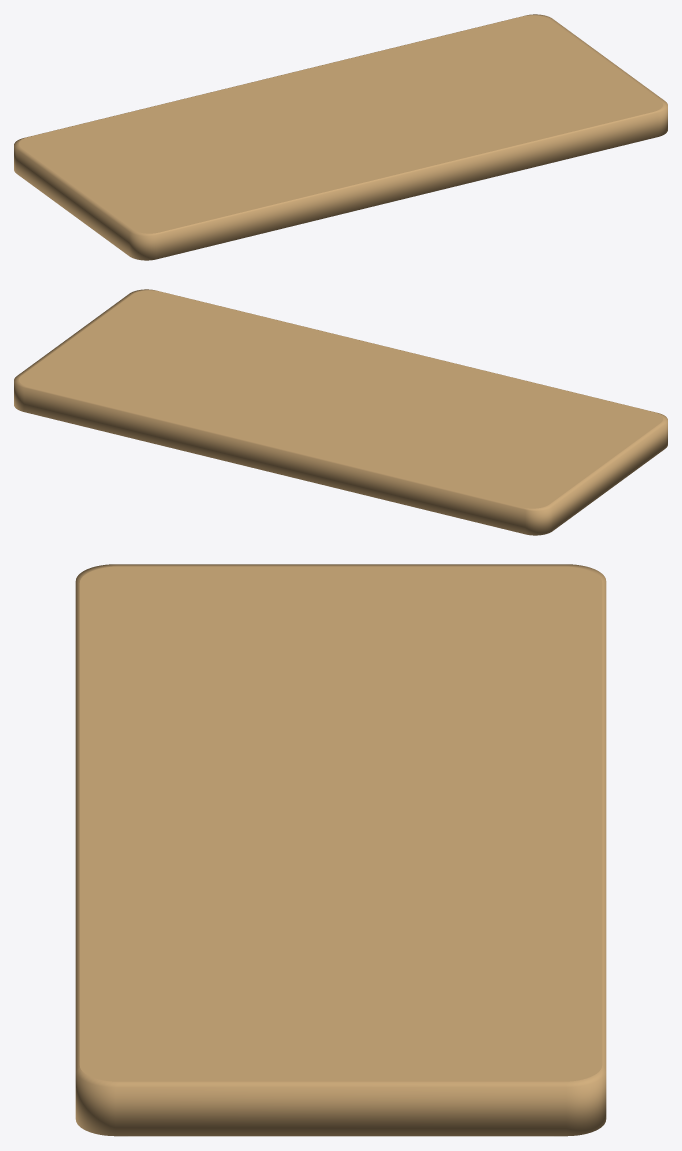
Rendered from FlushCeilingFluorescent.glb.
3 renders of one model, top to bottom at view 1: azimuth 30°, elevation 25°; view 2: azimuth 150°, elevation 25°; view 3: azimuth 270°, elevation 25°, orthographic. The views are drawn at different scales.
Visible parts, largest first — view 1: Champagne bezel; view 2: Champagne bezel; view 3: Champagne bezel.
Part boxes in pixels (x1=…): Champagne bezel: x1=14, y1=14, x2=667, y2=260; Champagne bezel: x1=14, y1=289, x2=667, y2=535; Champagne bezel: x1=75, y1=564, x2=606, y2=1136.
Bounding box in the file's own units: 1.4 × 0.082 × 0.6.
